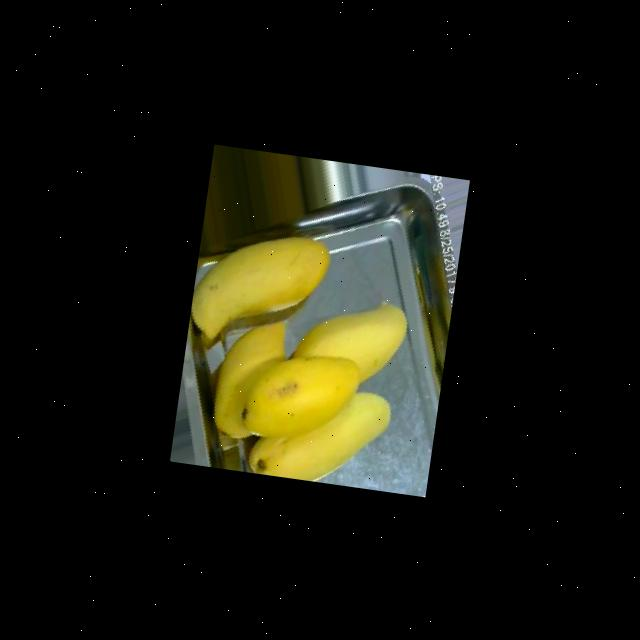Mango: (188, 222, 332, 356), (245, 375, 398, 491), (284, 288, 412, 397), (238, 342, 364, 449), (206, 312, 290, 446)
